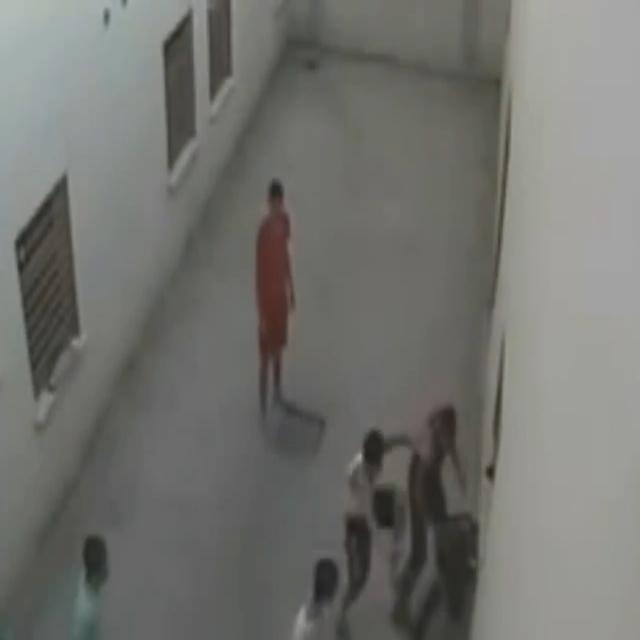fight: (333, 404, 477, 640), (400, 400, 478, 640)
